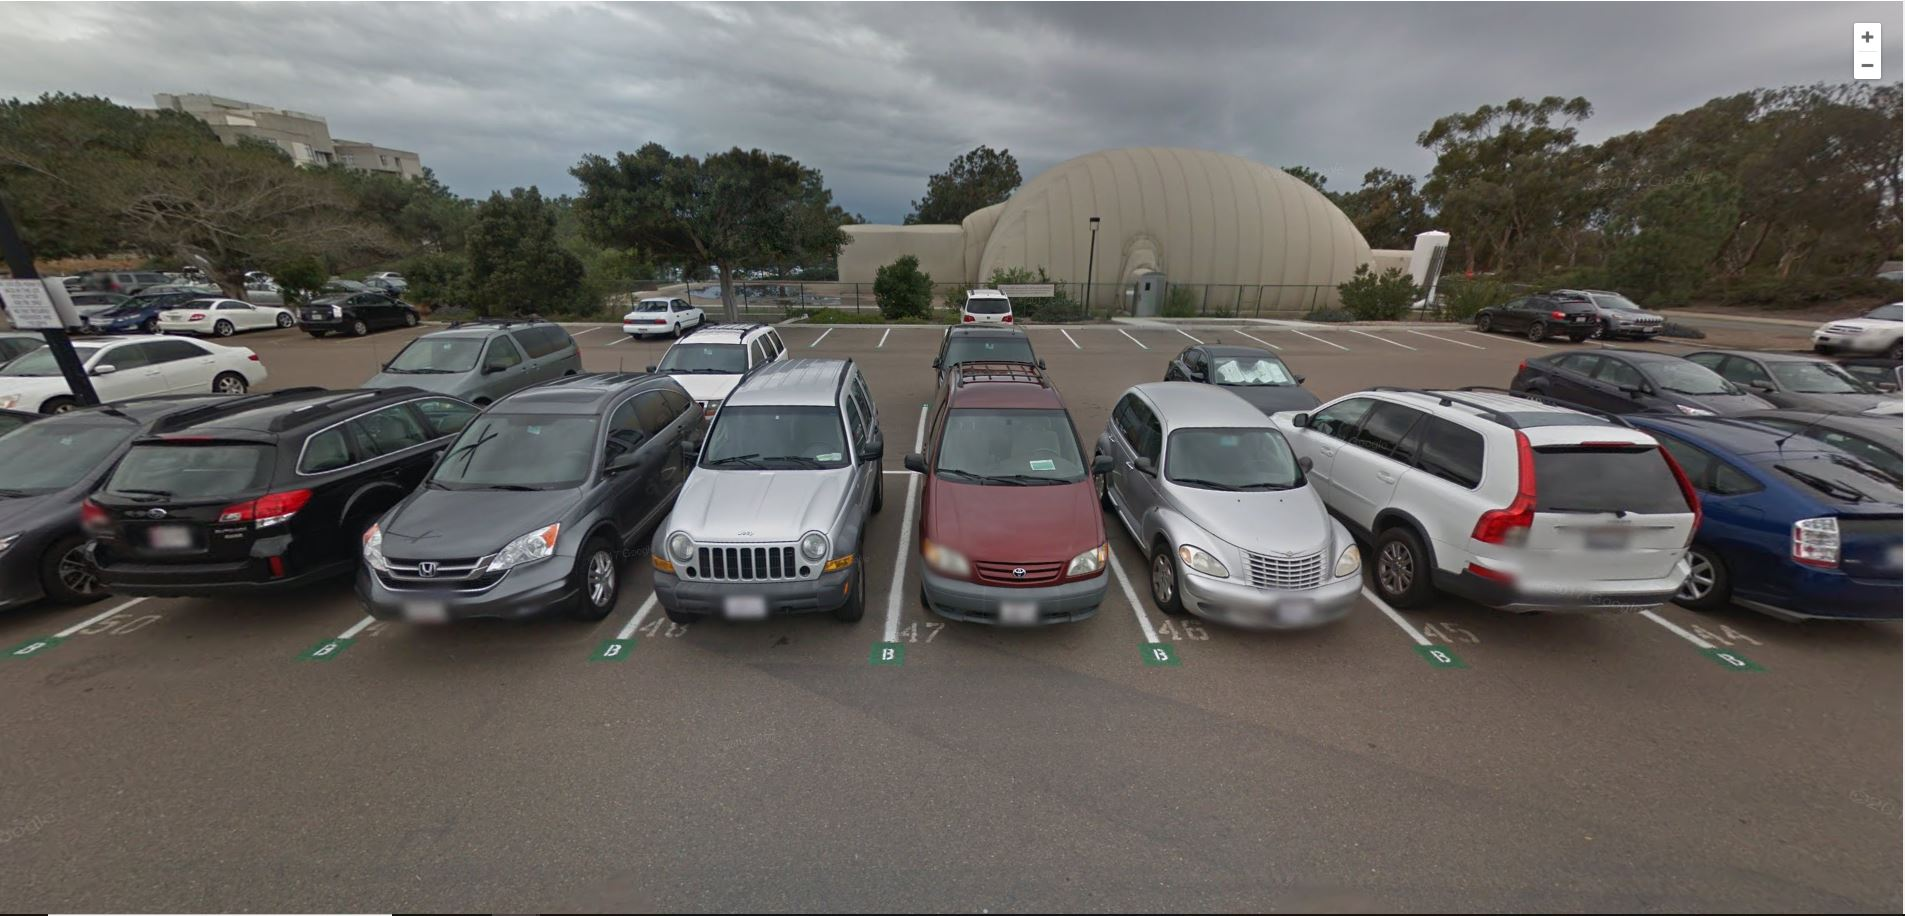car: (1270, 388, 1705, 626), (83, 384, 505, 620), (354, 364, 710, 639), (1090, 378, 1377, 648), (1613, 405, 1905, 637), (648, 357, 887, 631), (911, 358, 1117, 650), (354, 315, 588, 426), (1509, 341, 1769, 426), (1683, 341, 1905, 418), (1158, 345, 1329, 422), (292, 282, 422, 339), (157, 287, 294, 337), (1472, 292, 1604, 343), (618, 287, 716, 343), (950, 285, 1025, 329)
